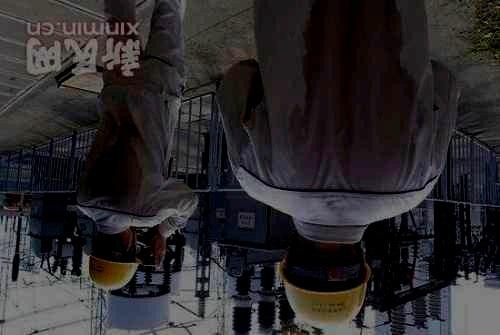helmet: (279, 236, 371, 330), (88, 228, 141, 291)
